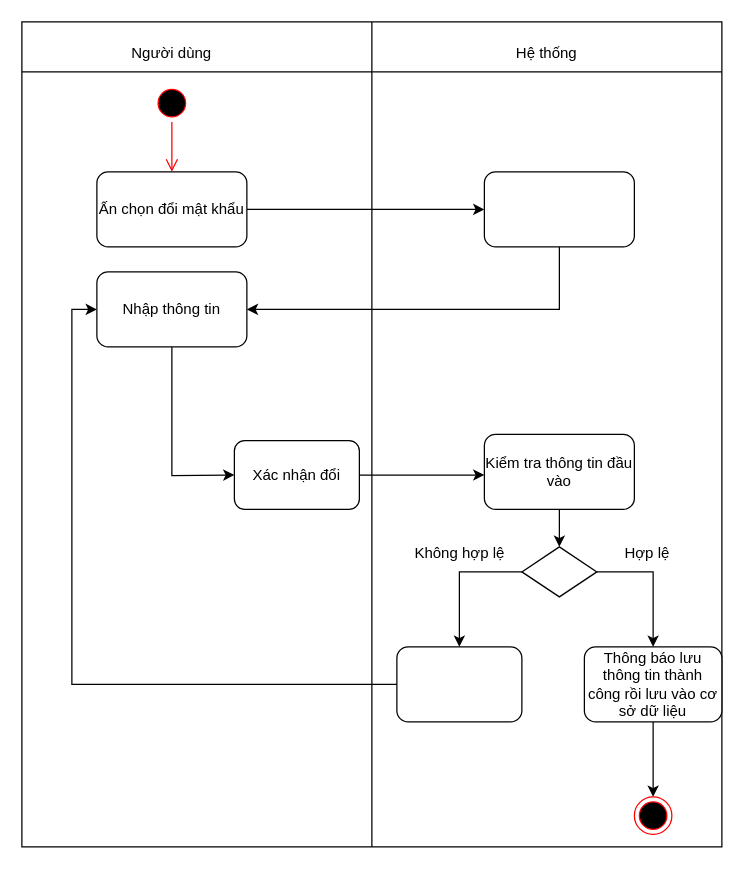
Some shapes in this 744 by 869 pixel diagram are drawn without their labels. Here are the shapes that lost their labels. From the top down, the centre of each, then its label:
(x=558, y=209): Hiển thị form đổi mật khẩu
(x=459, y=684): Thông báo dữ liệu không hợp lệ
